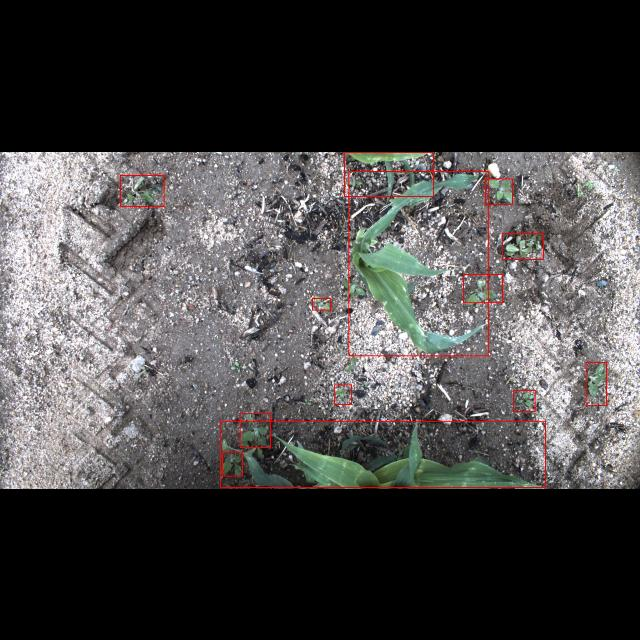crop: (348, 170, 488, 356), (220, 420, 546, 488), (344, 152, 434, 196)
weed: (120, 174, 164, 206), (463, 274, 503, 302), (502, 232, 544, 258), (240, 412, 270, 448), (586, 362, 606, 404), (486, 178, 512, 204), (222, 452, 242, 476), (514, 391, 534, 412), (334, 384, 352, 404), (312, 297, 331, 309)
